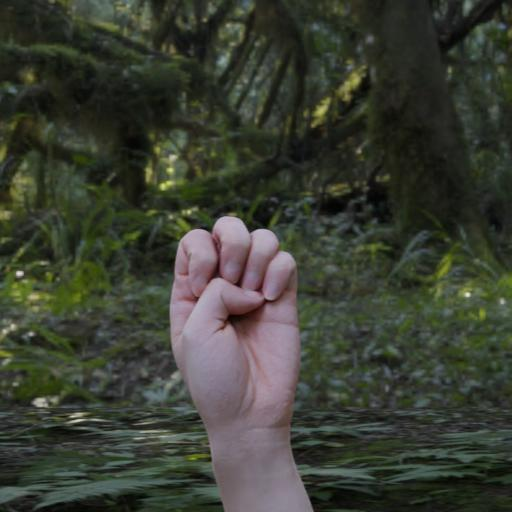E: (152, 207, 320, 482)
